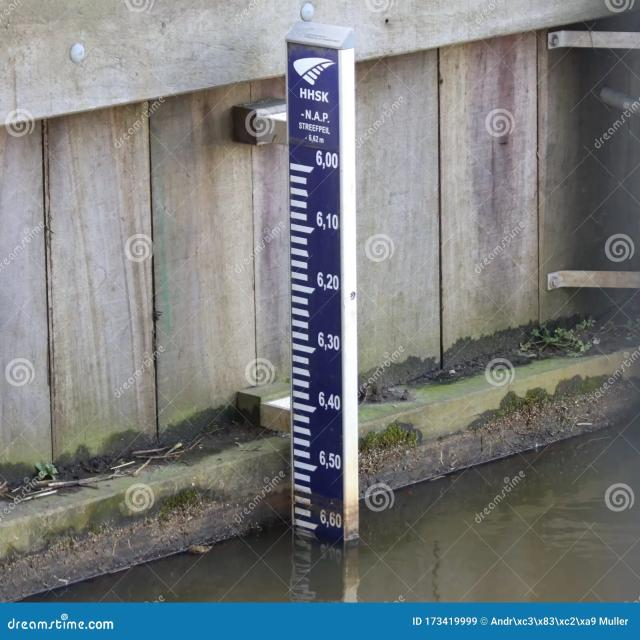staff: (284, 42, 346, 542)
